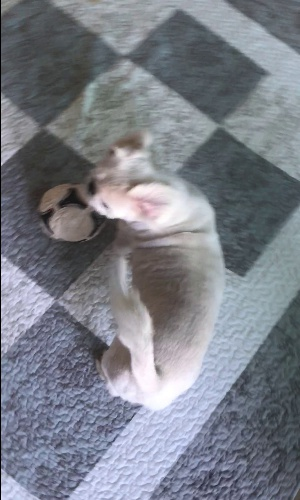ddubi: (75, 125, 227, 415)
